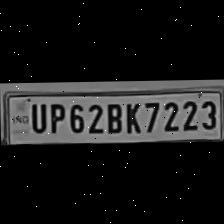2: (84, 100, 104, 135), (158, 97, 178, 132), (177, 96, 197, 130)
3: (196, 96, 216, 130)
6: (64, 100, 84, 134)
7: (140, 99, 160, 134)
B: (104, 100, 122, 134)
K: (121, 99, 141, 134)
P: (45, 100, 65, 134)
U: (26, 101, 46, 134)
